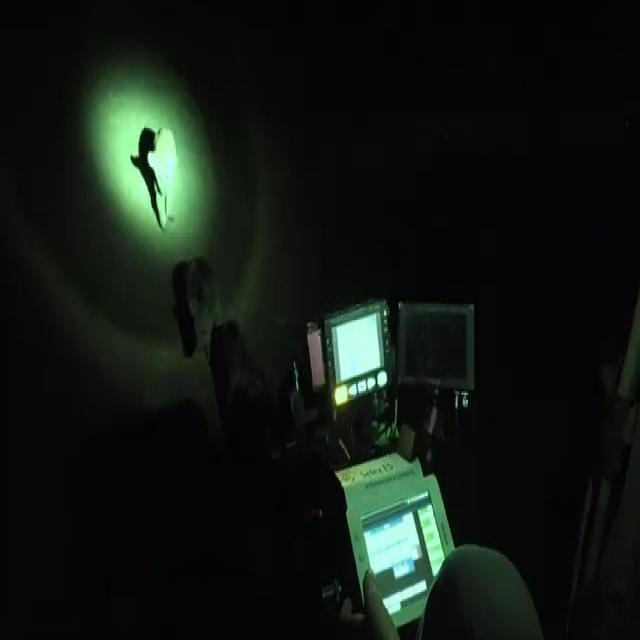animal: (121, 104, 188, 238)
device: (276, 272, 492, 571)
